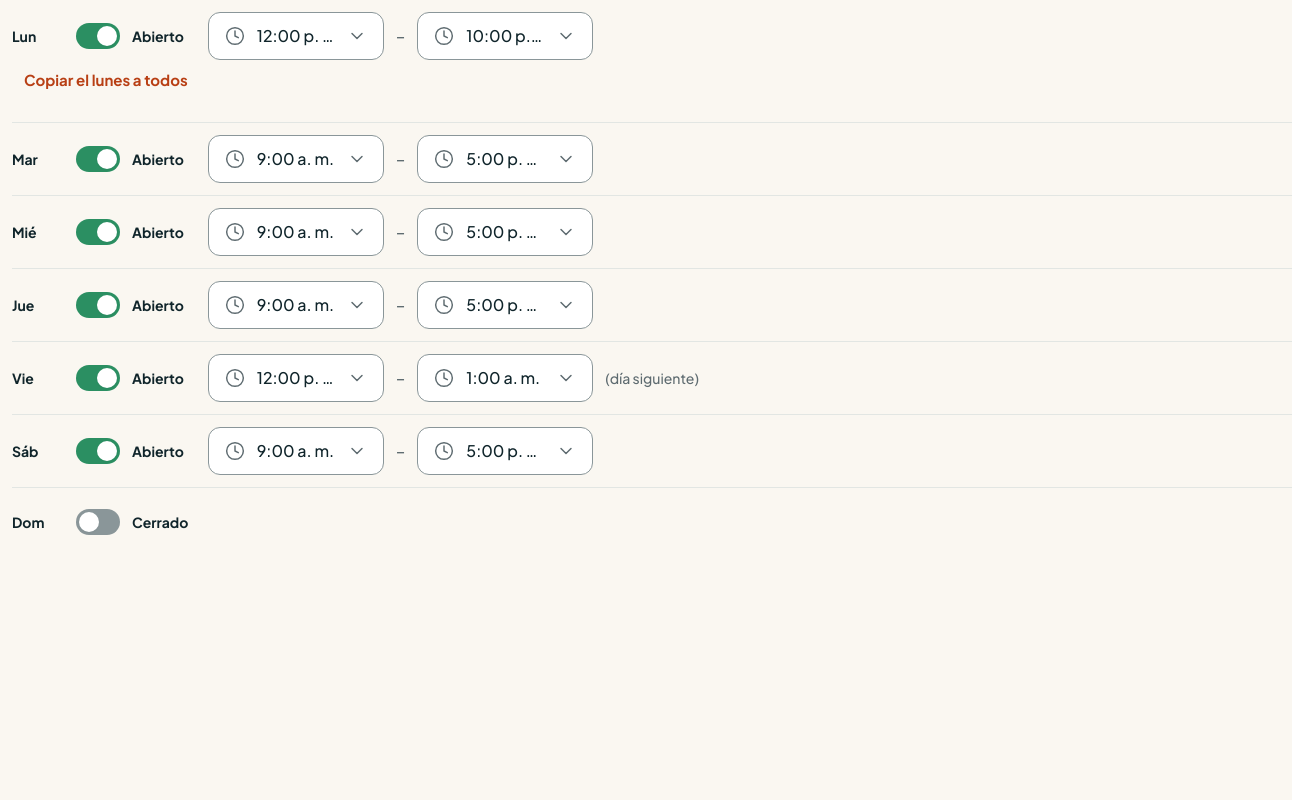
Test: HoursEditor › "Abierto 24 horas" is the first opening option: it hides the closing hour and can be undone
Click the dropdown named "Apertura del lunes".
click(296, 36)  # box [208, 12, 384, 60]
(page scrolled)
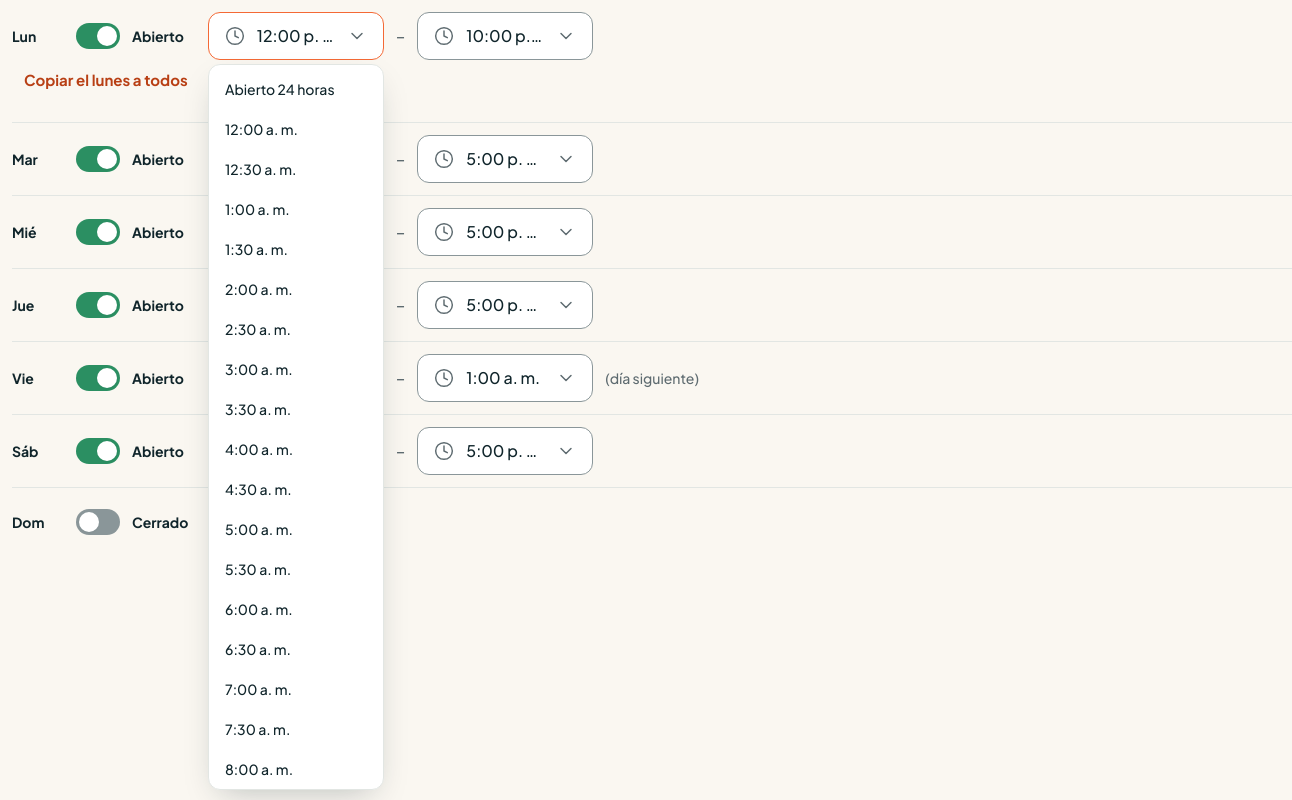
Result: the option "Abierto 24 horas" is shown
Click the option "Abierto 24 horas".
click(280, 89)  # box [225, 80, 335, 98]
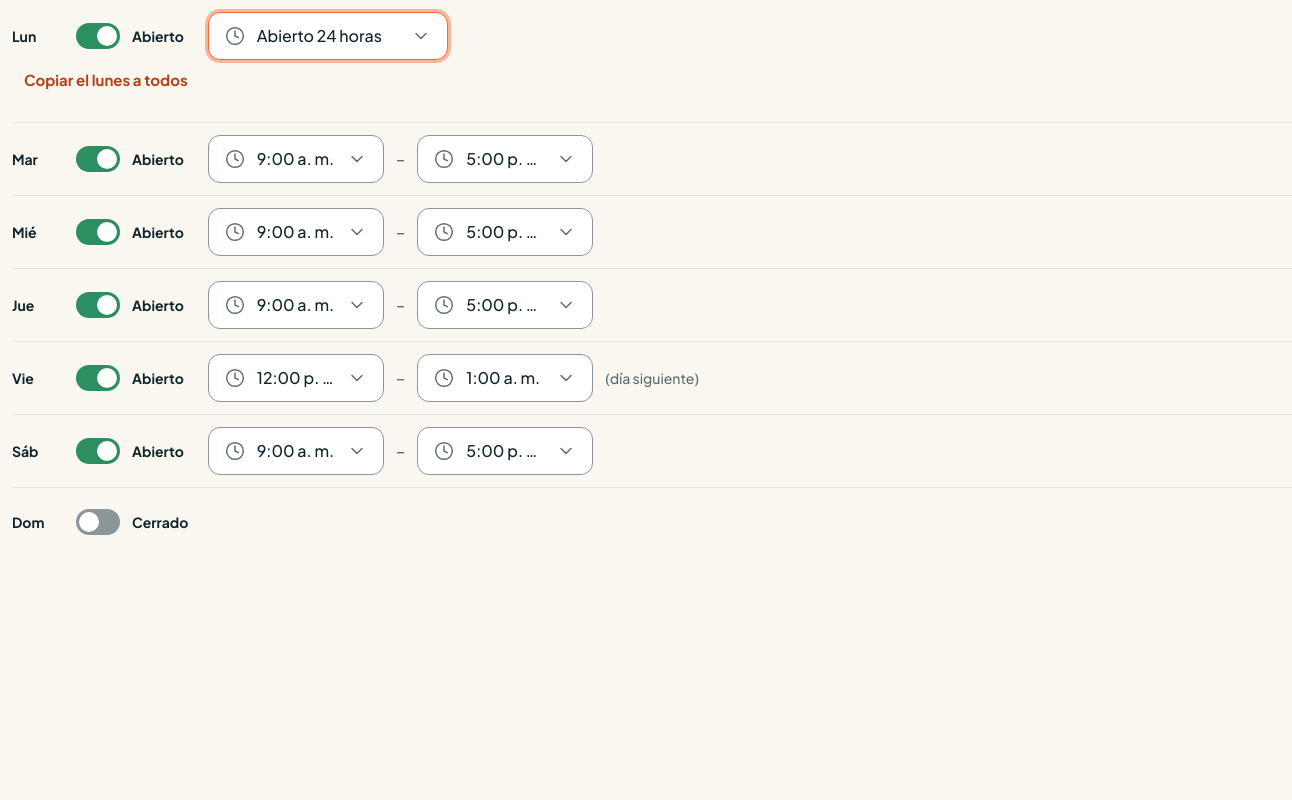
Expected: the dropdown labelled "Cierre del lunes" is not shown
Result: the dropdown named "Apertura del lunes" reads "Abierto 24 horas"
Click the dropdown named "Apertura del lunes".
click(328, 36)  # box [208, 12, 448, 60]
(page scrolled)
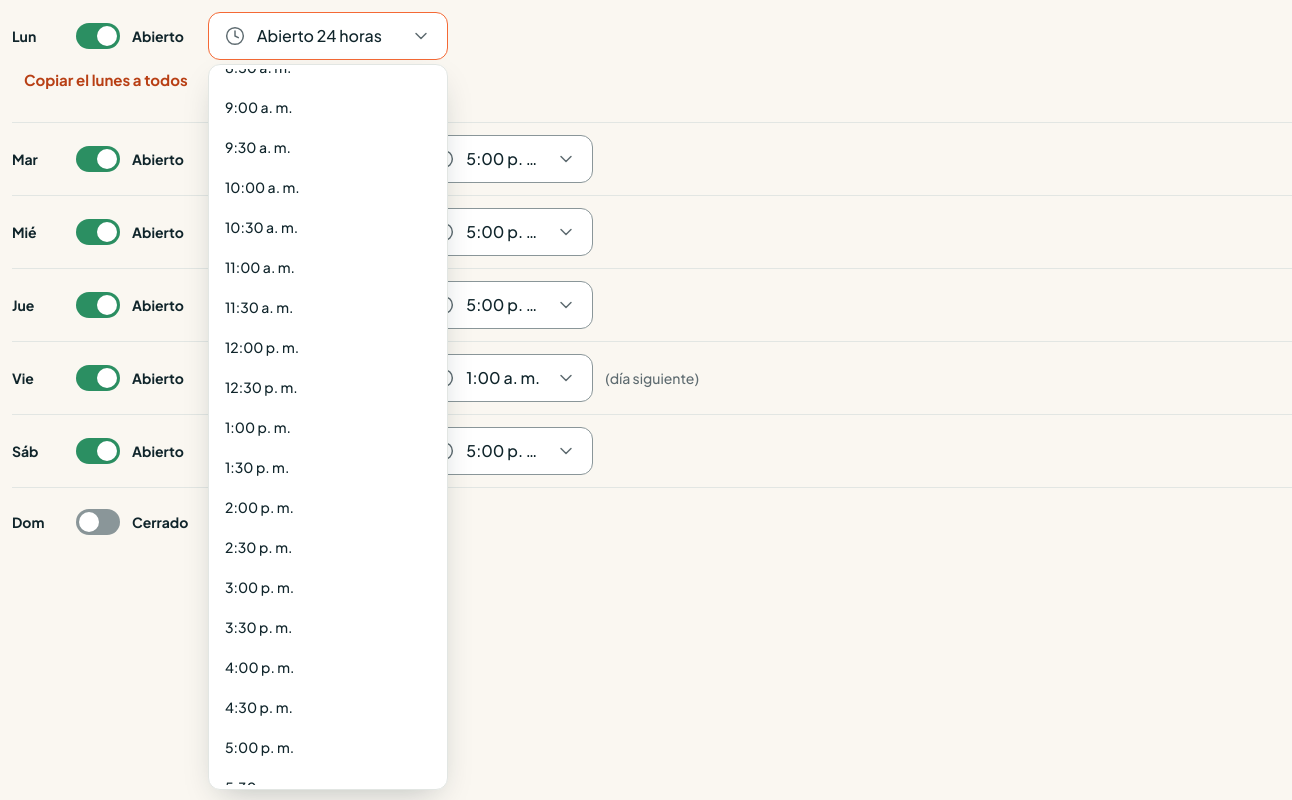
Click the option "1:00 p. m.".
click(258, 427)  # box [225, 418, 291, 436]
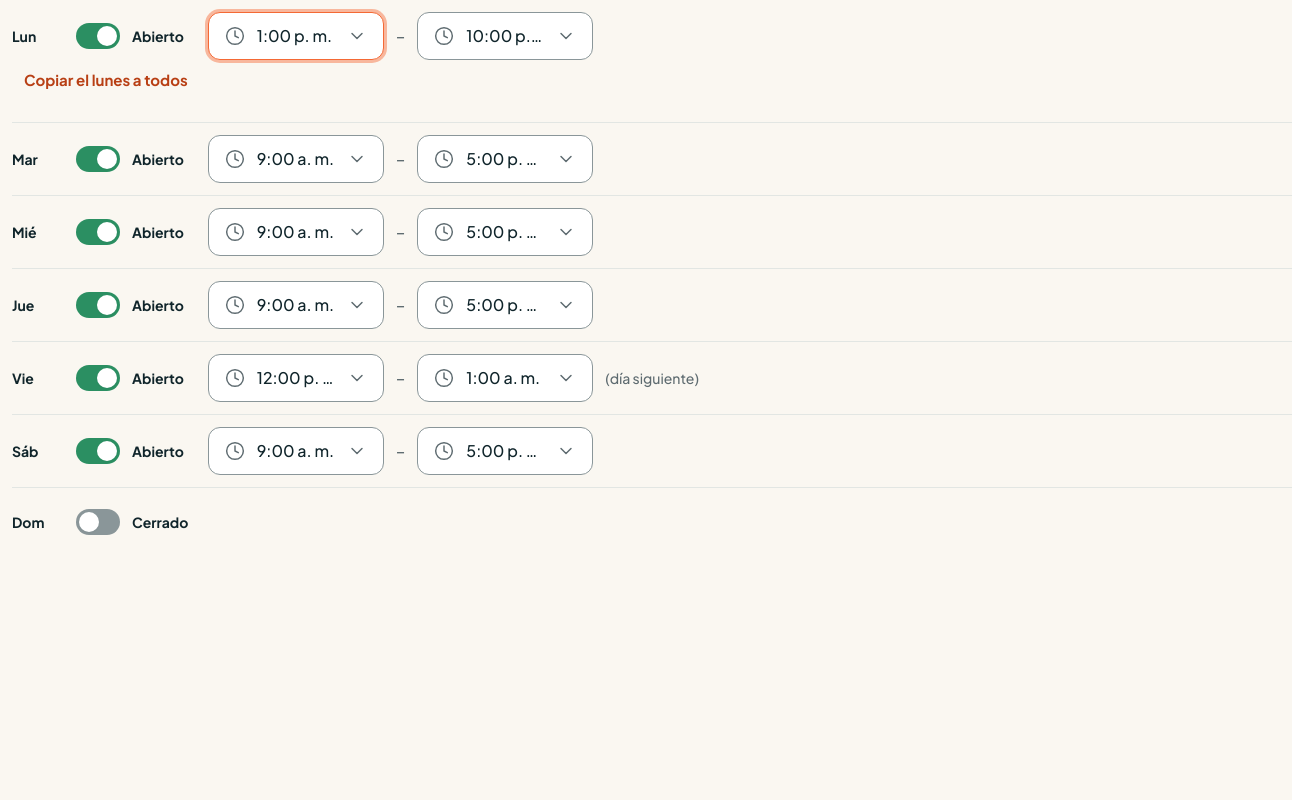
Result: the dropdown named "Cierre del lunes" reads "10:00 p. m." at [417, 12, 593, 60]
